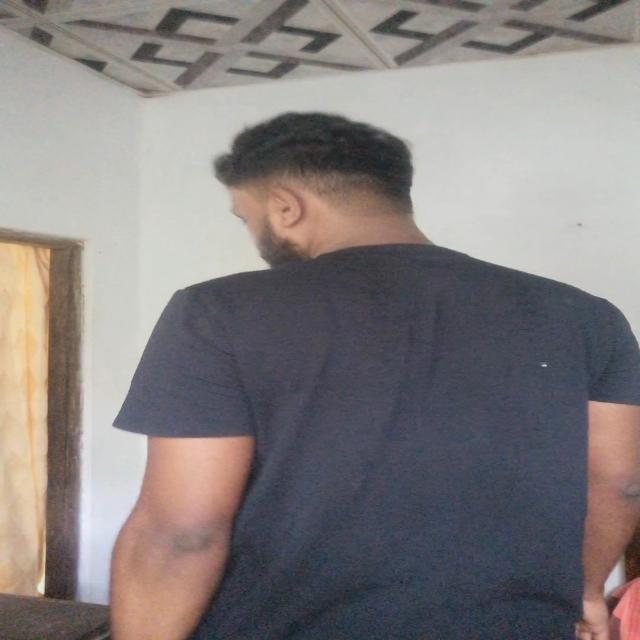Person: (93, 91, 640, 640)
